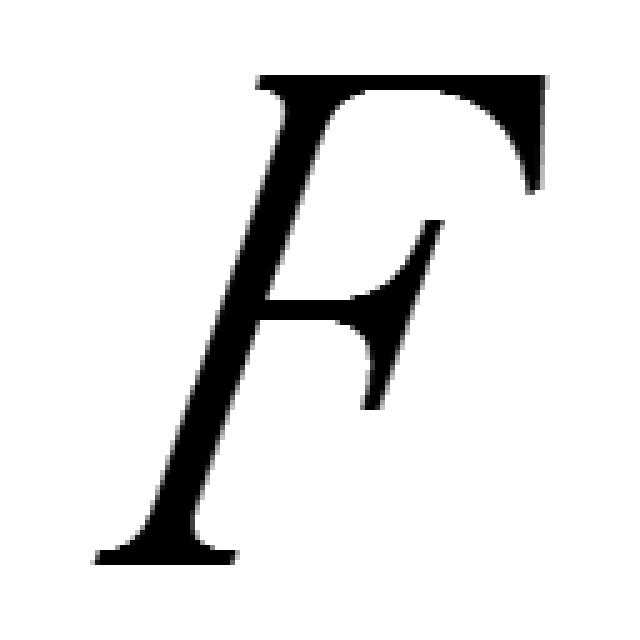F: (85, 65, 550, 570)
